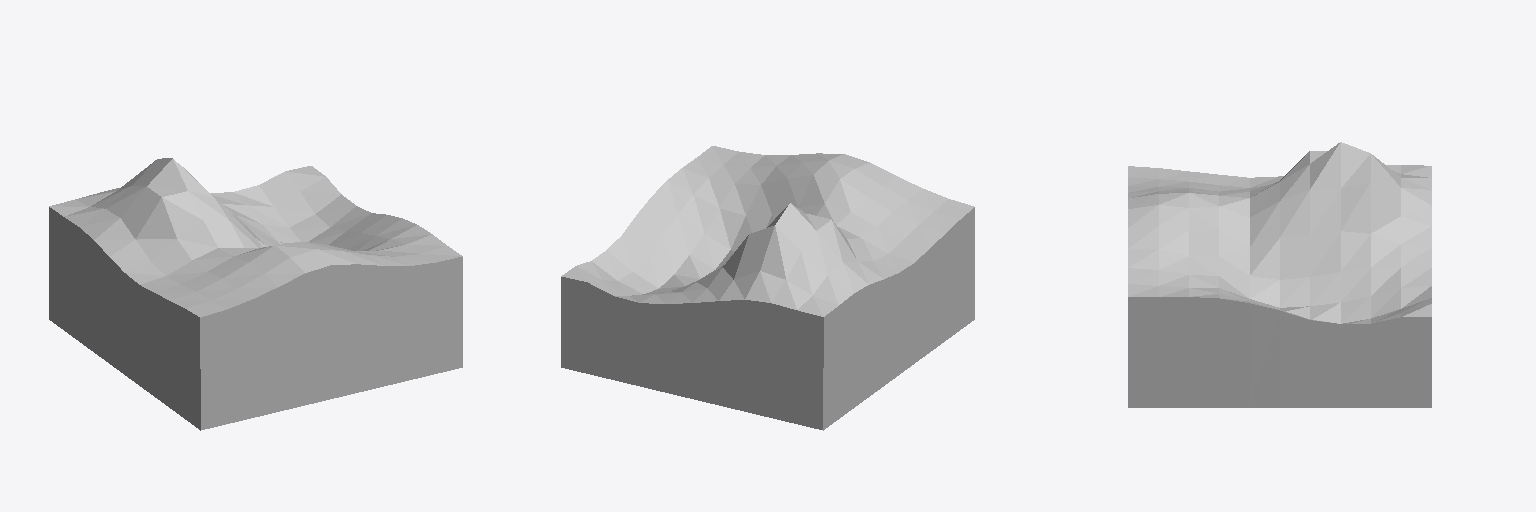
The model's file is heightmap_opt.obj.
The picture shows the model from 3 angles: view 1: azimuth 30°, elevation 25°; view 2: azimuth 150°, elevation 25°; view 3: azimuth 270°, elevation 25°; orthographic projection.
Size of the model in its own units: 100 by 64.34 by 100.